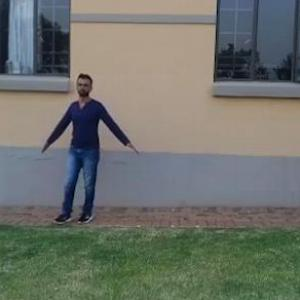land: (43, 79, 141, 228)
